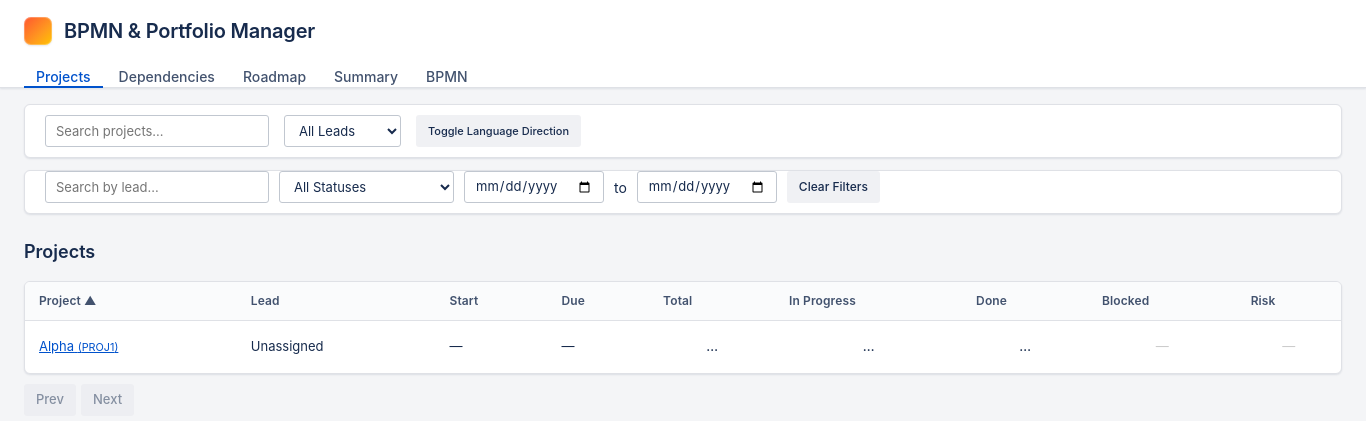
it: App › Dependencies tab › does not render the graph canvas when there are no dependencies to show
This screenshot has width=1366, height=421.
Expected: the button "Alpha (PROJ1)" is shown, top-left (39, 331), bottom-right (118, 363)
Click the tab "Dependencies" at (167, 72), box top-left (107, 56), bottom-right (227, 88)
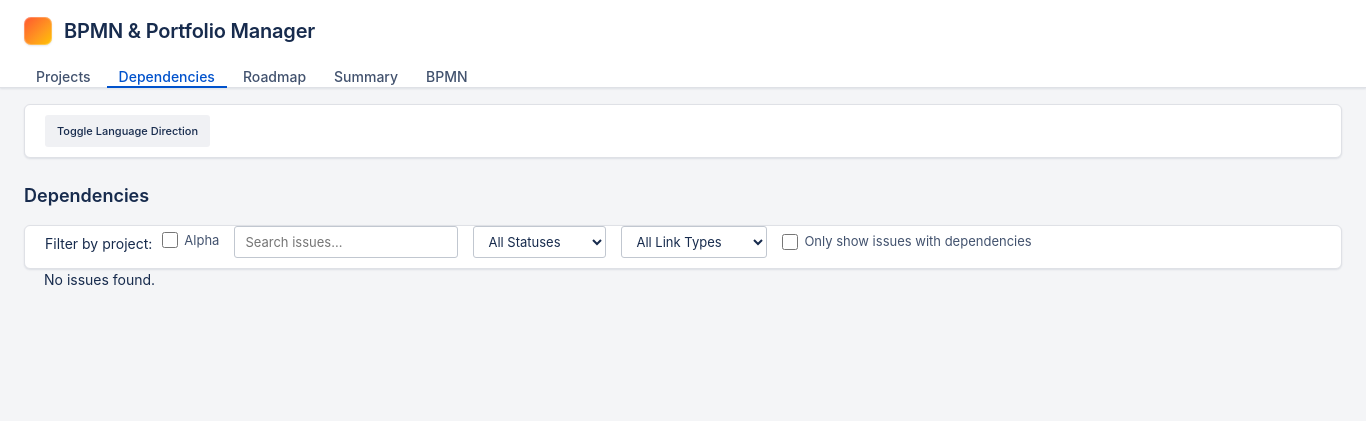
Expected: the text "No issues found." is shown, top-left (44, 271), bottom-right (155, 288)
